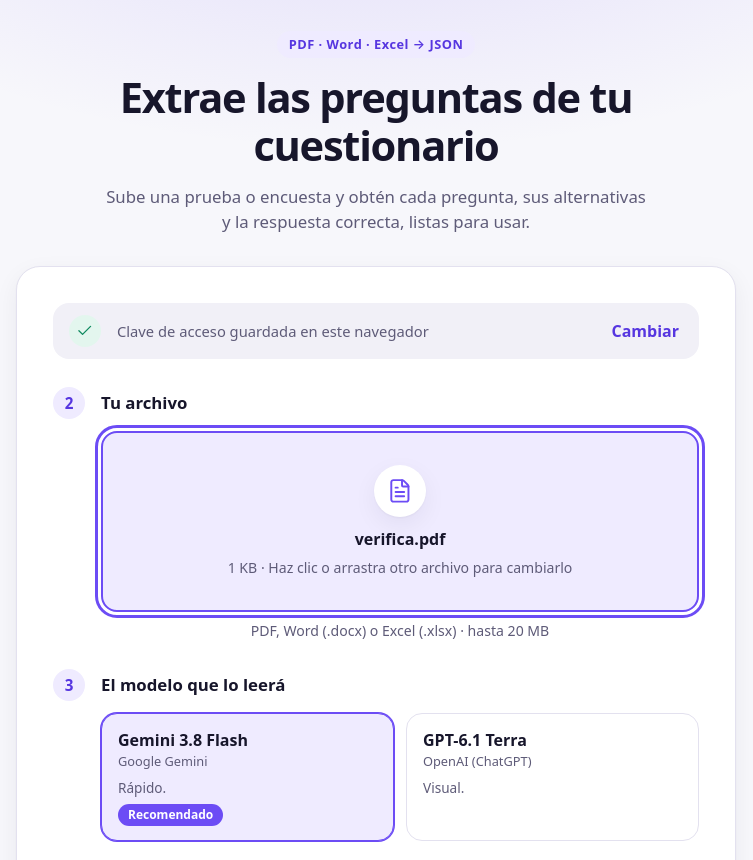
App › asks for the key the first time, then extracts and shows the questionnaire
Earlier steps of the test are not shown.
Click the radio button labelled "GPT-6.1 Terra OpenAI (ChatGPT) Visual." at {"x": 475, "y": 740}, box 406,713 -> 699,841
(page scrolled)
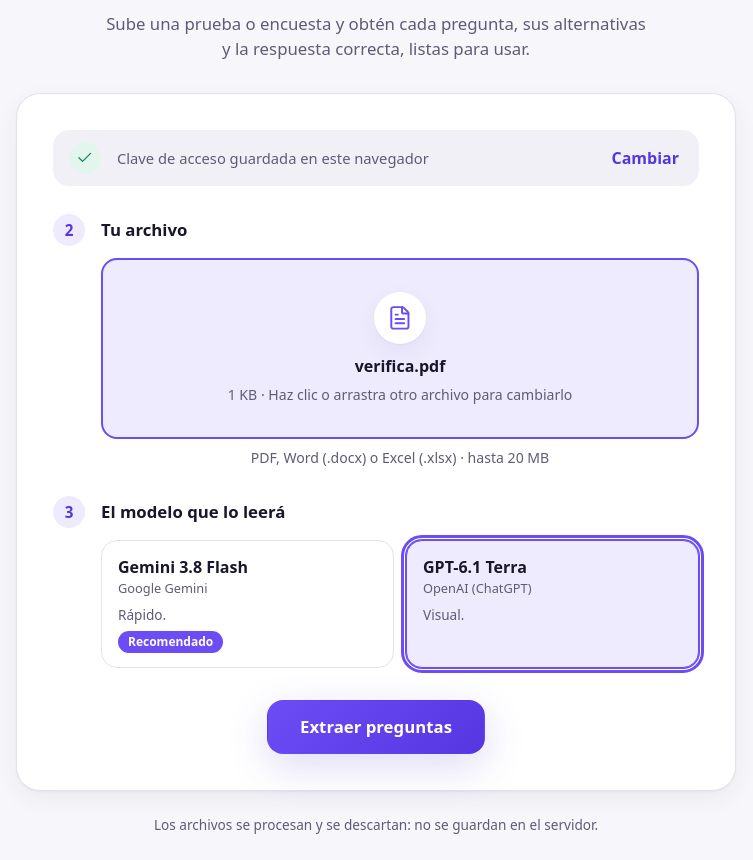
Click the button "Extraer preguntas" at {"x": 376, "y": 727}, box 267,700 -> 485,754
(page scrolled)
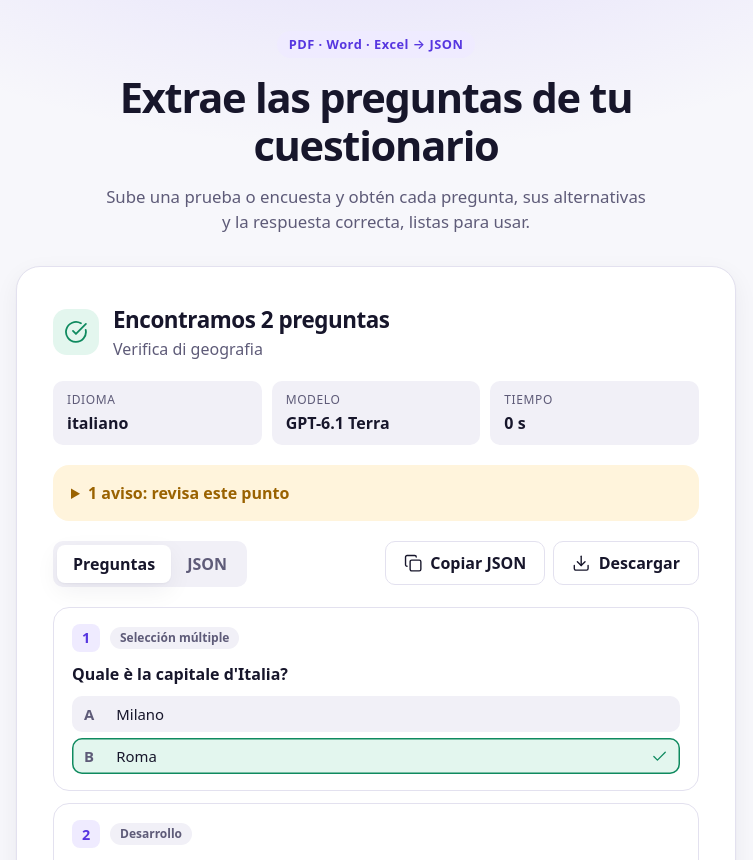
Result: the heading "Encontramos 2 preguntas" is shown at 113,303 -> 390,337
Result: the list item "Respuesta correcta" shows "Roma" at 116,746 -> 157,766
Result: the heading "1 aviso: revisa este punto" is shown at 88,482 -> 289,504
